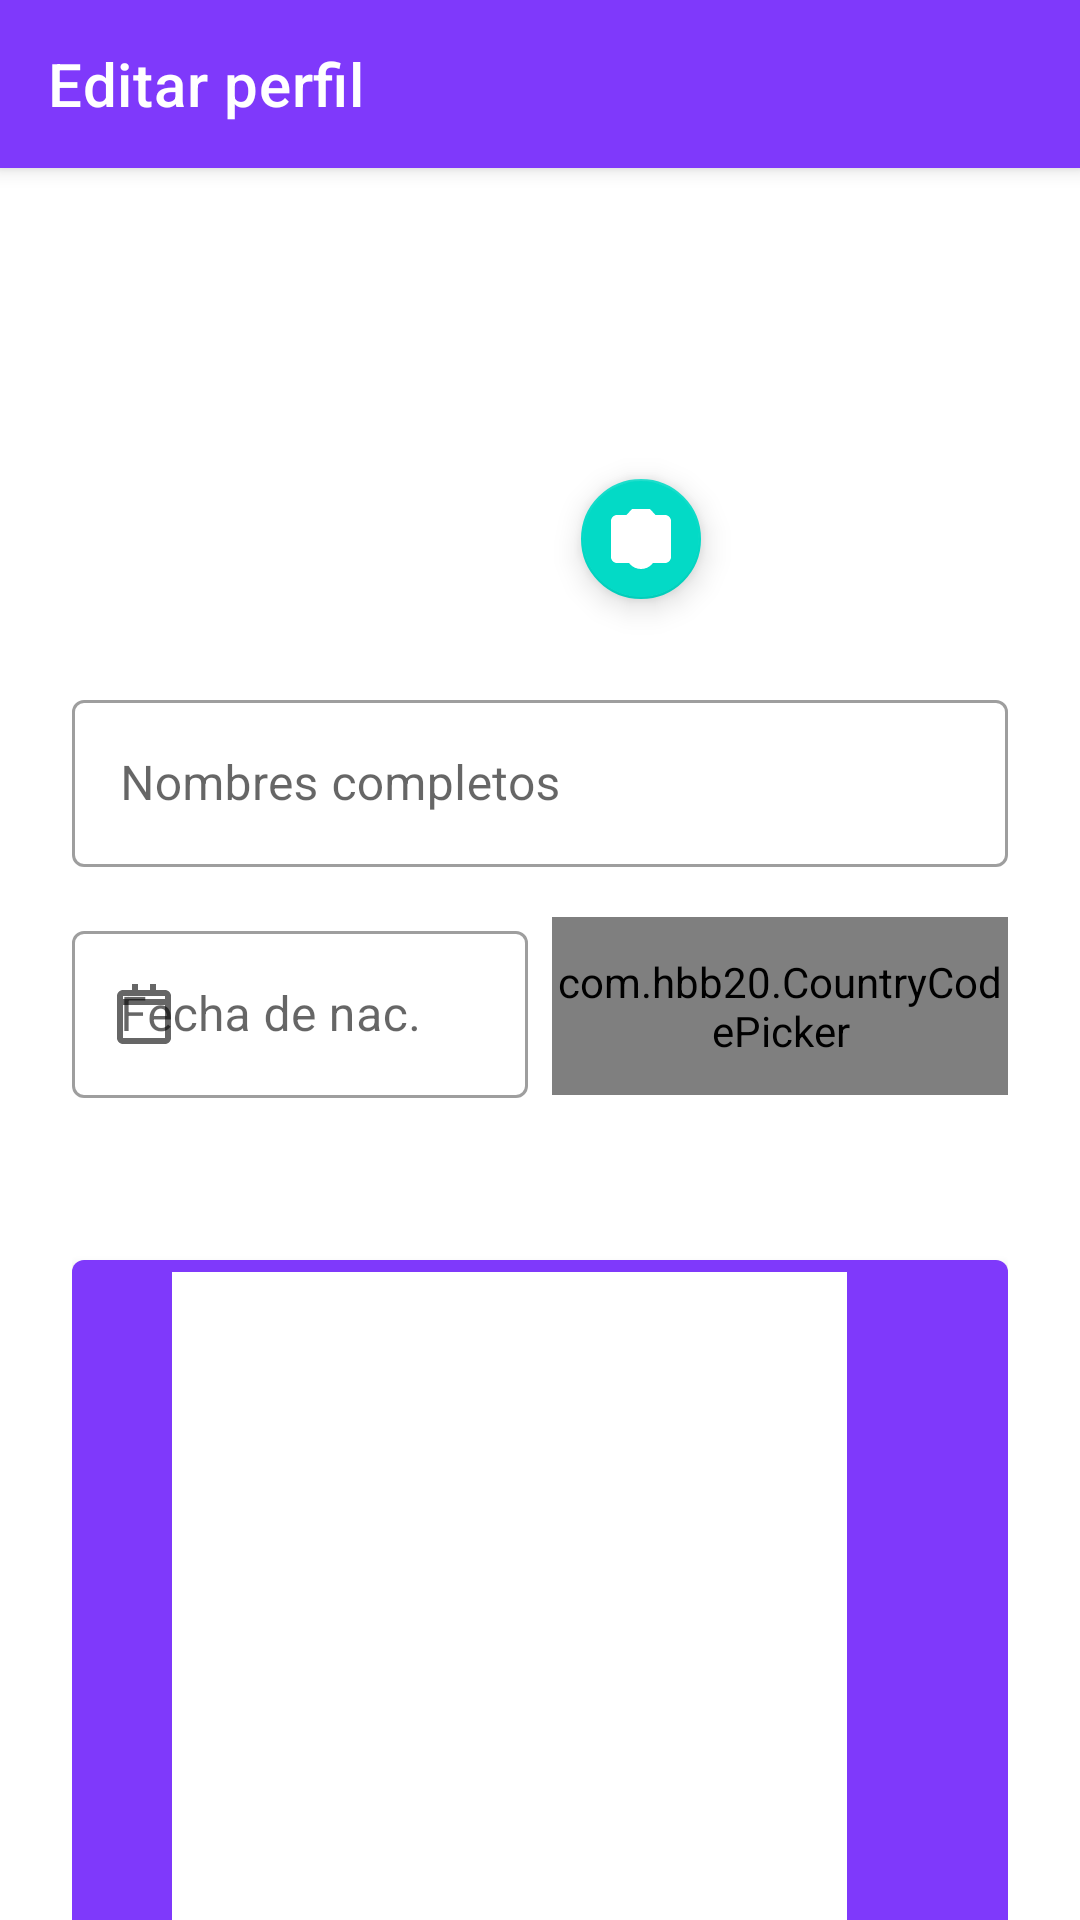

Named icons in this screenshot (1080*1920) and their bounding boxes, (x1, y1, x2, y2):
Cambiar foto de perfil: (581, 479, 701, 602)
